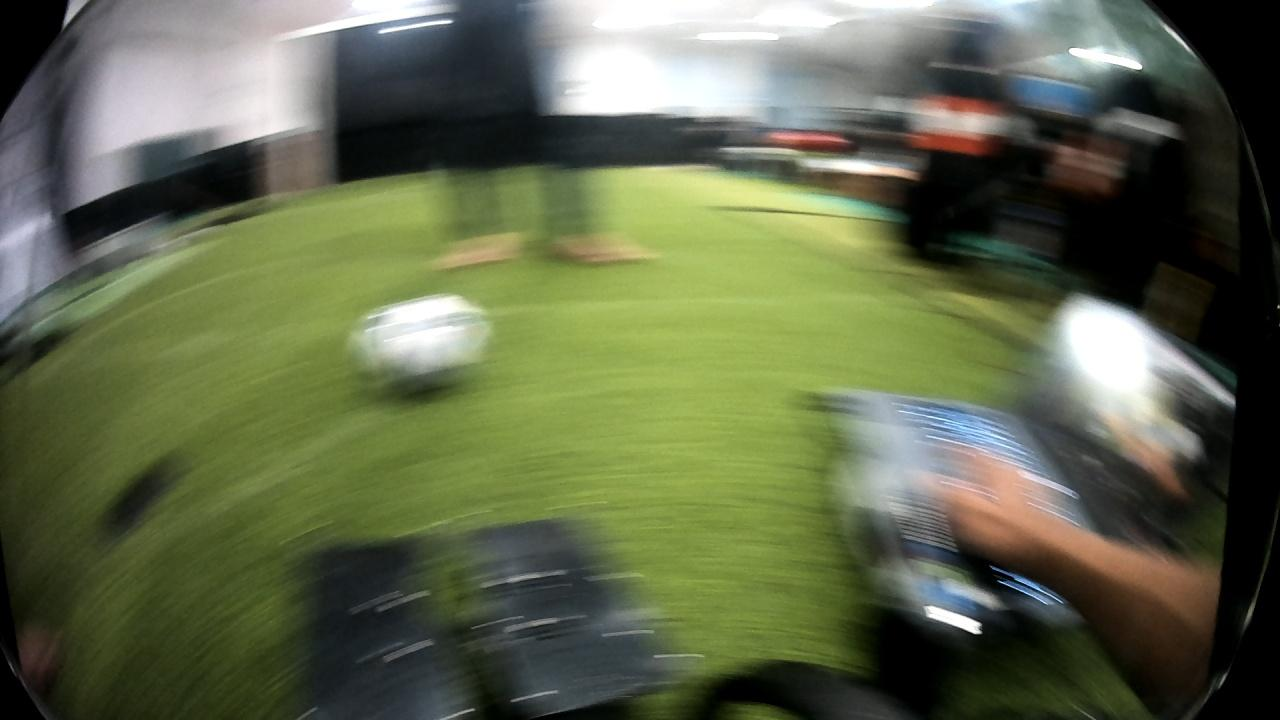ball: (337, 282, 501, 410)
